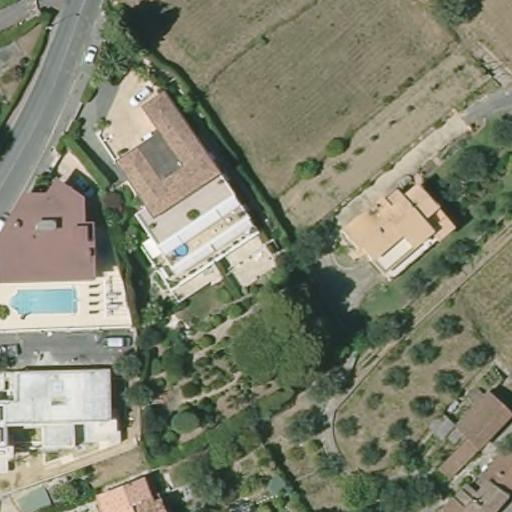pool: (4, 279, 86, 318), (172, 241, 190, 258)
